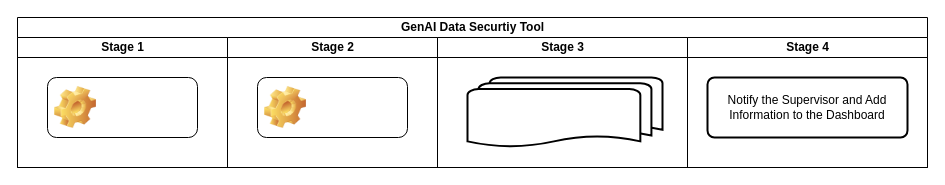
Image size: 945x185. Some labels were removed from this diagram. The shapes that lost their labels are listed below. From the top down, each one's centre as x and y in pixels, then its label:
At pixel 122 107: "Packet Sniffer".
At pixel 332 107: "KeyLogger".
At pixel 564 112: "MODEL CHECK COMPLIANCE/SECURIT Y".
